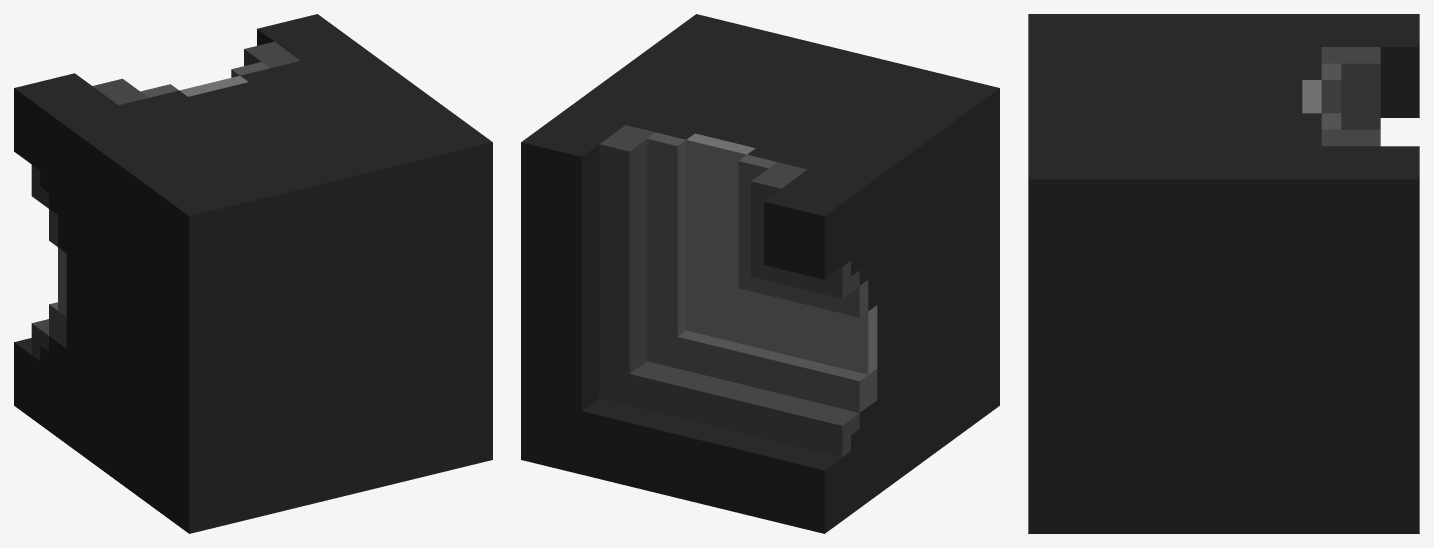
The model's file is FrameCorner.obj.
The picture shows the model from 3 angles, left to right: view 1: azimuth 30°, elevation 25°; view 2: azimuth 150°, elevation 25°; view 3: azimuth 270°, elevation 25°; orthographic projection. The views are drawn at different scales.
Parts seen in each view (by area): view 1: Untitled; view 2: Untitled; view 3: Untitled.
Part boxes in pixels (x1,y1,x2,y2): Untitled: [14, 14, 492, 533]; Untitled: [521, 14, 999, 533]; Untitled: [1028, 14, 1419, 533].
Size of the model in its own units: 2 by 2 by 2.
